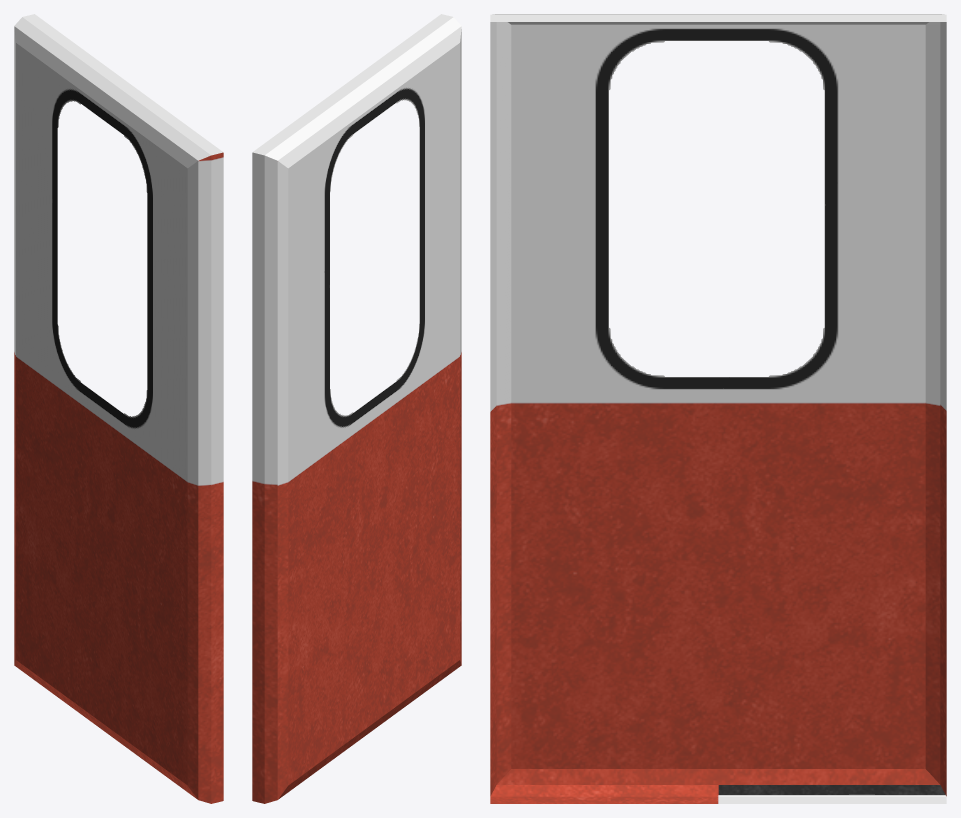
File: cablecardoor.fbx
The picture shows the model from 3 angles, left to right: view 1: azimuth 30°, elevation 25°; view 2: azimuth 150°, elevation 25°; view 3: azimuth 270°, elevation 25°; orthographic projection. The views are drawn at different scales.
Parts seen in each view (by area): view 1: CableCarDoor; view 2: CableCarDoor; view 3: CableCarDoor.
Boxes of the visible parts, <box> form: CableCarDoor: <box>14,14,223,803</box>; CableCarDoor: <box>252,14,461,803</box>; CableCarDoor: <box>490,14,946,803</box>.
Bounding box in the file's own units: 25.57 × 578 × 306.
